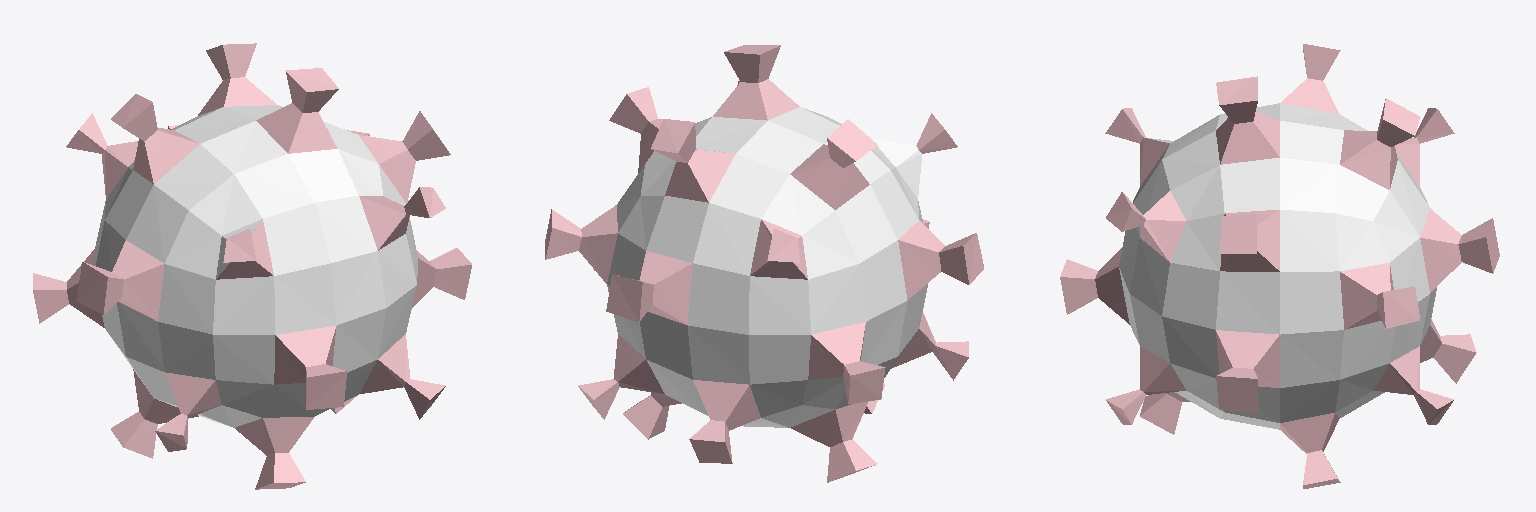
3 views of the same model, side by side, from view 1: azimuth 30°, elevation 25°; view 2: azimuth 150°, elevation 25°; view 3: azimuth 270°, elevation 25° (orthographic).
Visible parts, largest first — view 1: Box001; view 2: Box001; view 3: Box001.
Part boxes in pixels (x1,y1,x2,y2): Box001: (33,43,471,489); Box001: (545,45,983,482); Box001: (1060,44,1499,488).
Size of the model in its own units: 6 by 5.68 by 6.
Materials: 1 (1 with a texture image).